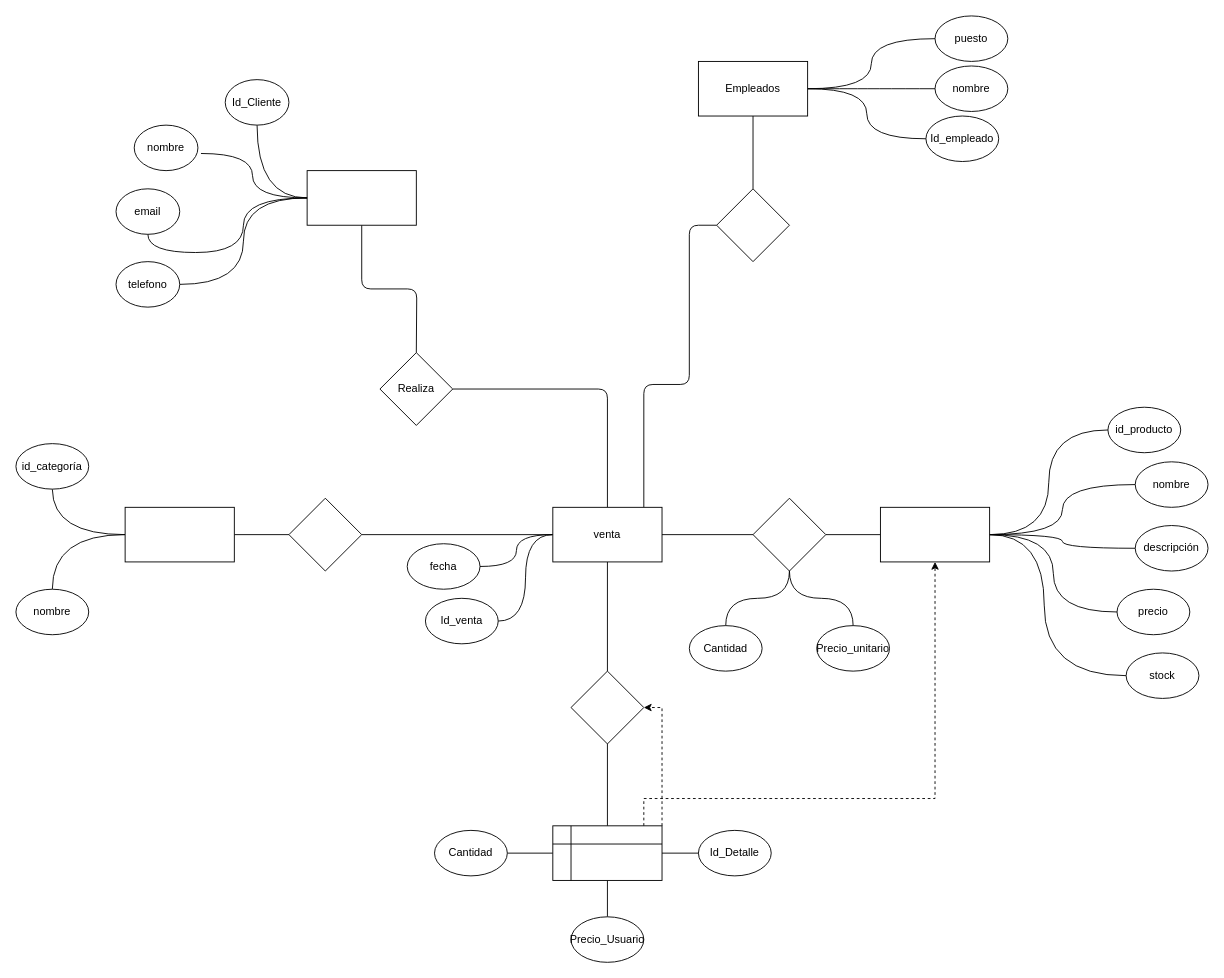
Image size: 1224x978. Some labels were removed from this diagram. The shapes that lost their labels are listed below. From the top down, each one's box as (x1, y1, x2, y2) in pixels, then its label:
(306, 170, 416, 225): Cliente
(716, 188, 789, 262): Atiende
(124, 506, 234, 562): Categoria
(288, 497, 362, 571): Pertenece
(752, 497, 826, 571): Incluve
(880, 506, 990, 562): producto
(570, 670, 644, 744): Tiene
(552, 825, 662, 880): Detalle_Venta
